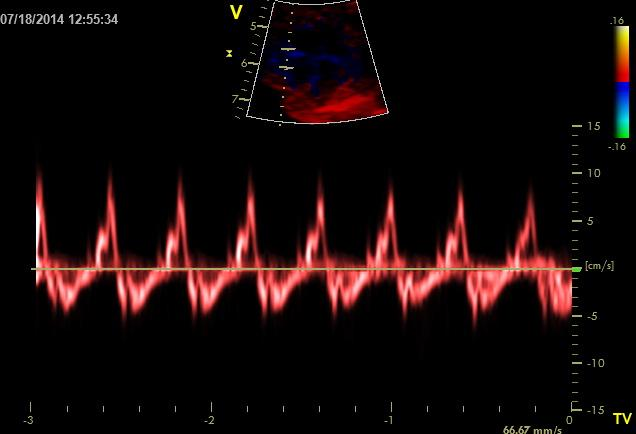Ultrasound-Waves: (36, 125, 570, 401)
